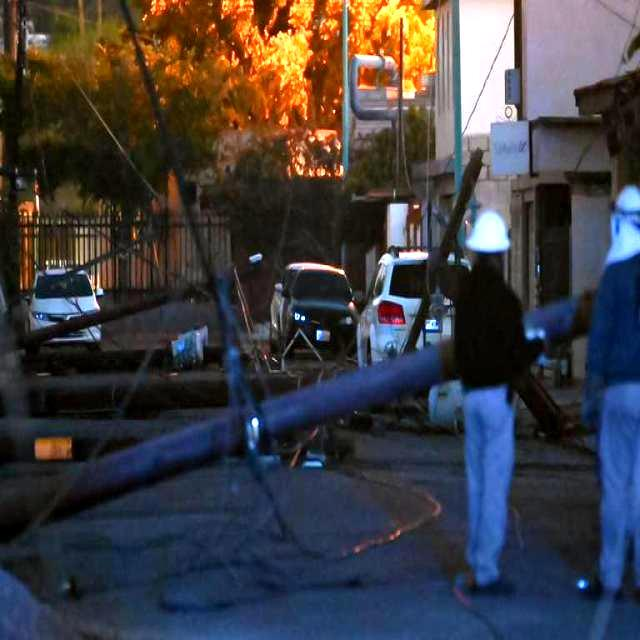Broken Pole: (2, 284, 594, 533), (28, 261, 240, 345)
